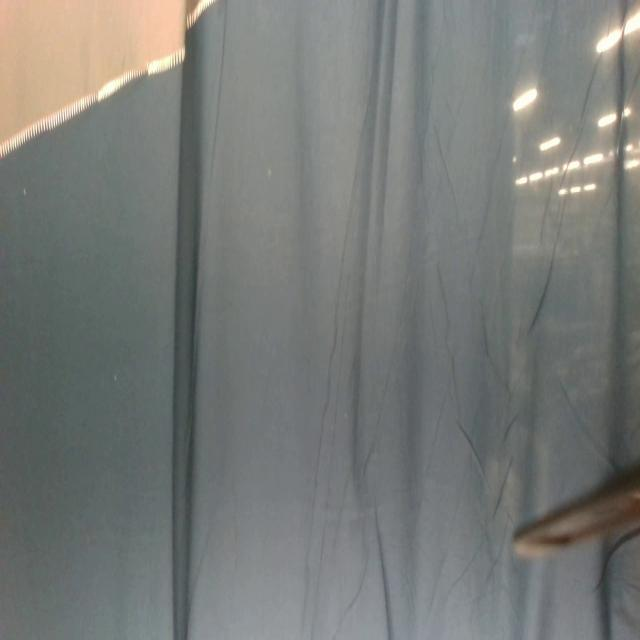crease: (526, 192, 568, 335), (588, 526, 640, 602), (454, 418, 489, 490), (376, 500, 394, 640), (494, 453, 513, 517), (501, 413, 520, 445)
